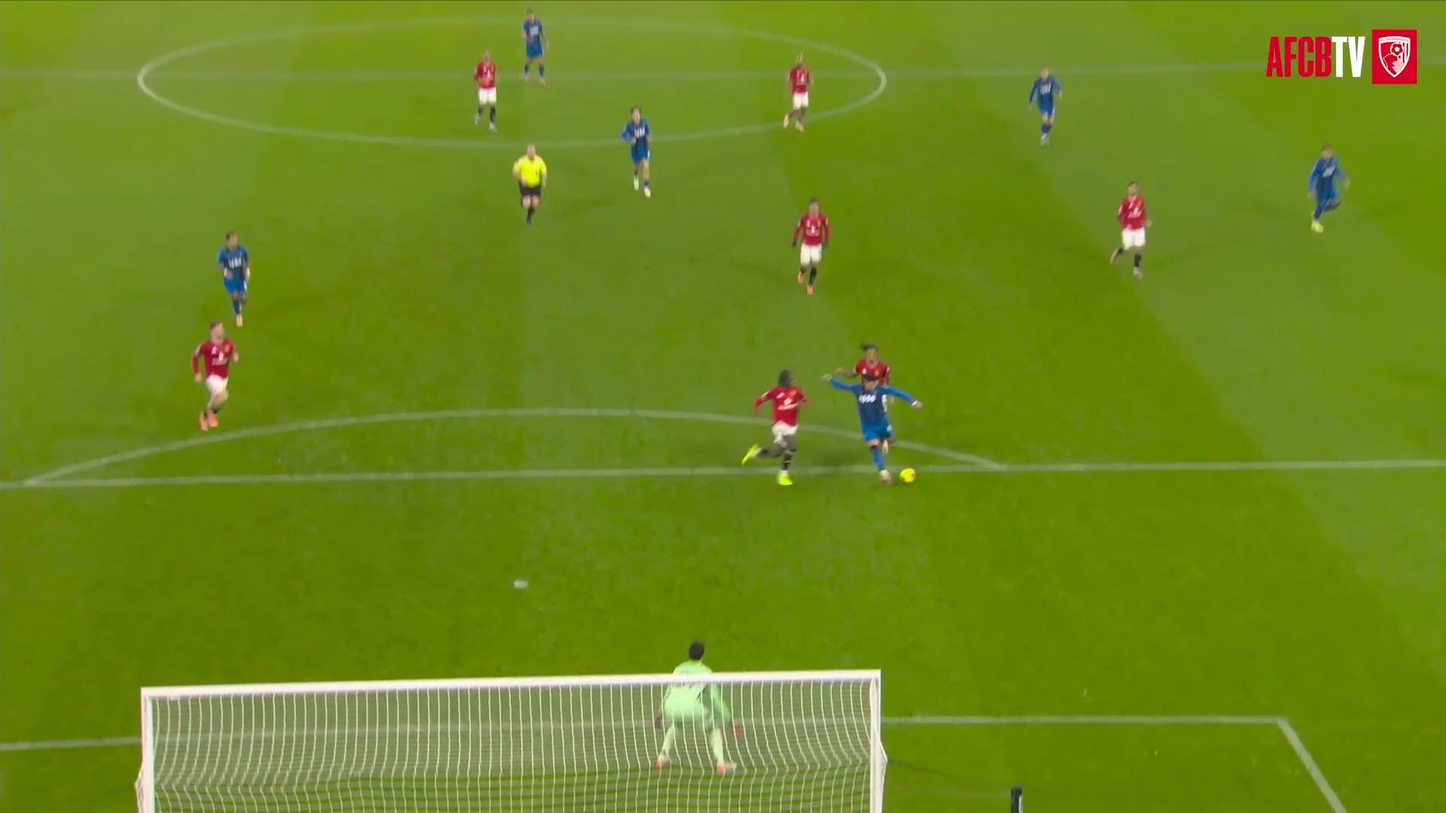football: (890, 461, 933, 495)
player: (654, 641, 742, 774), (824, 374, 921, 483), (743, 370, 808, 485), (191, 321, 238, 431), (1109, 182, 1151, 279), (792, 199, 830, 294), (1308, 145, 1348, 232), (217, 231, 250, 326), (621, 107, 651, 196), (1028, 67, 1061, 144), (783, 54, 812, 131), (836, 345, 891, 385), (522, 9, 547, 85), (474, 50, 496, 130)
referee: (513, 145, 546, 224)
